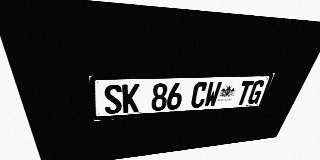6: (166, 82, 184, 110)
8: (151, 83, 169, 111)
C: (190, 82, 209, 108)
G: (246, 80, 266, 104)
K: (122, 84, 140, 113)
S: (103, 84, 122, 114)
T: (235, 80, 255, 105)
W: (203, 81, 222, 107)
